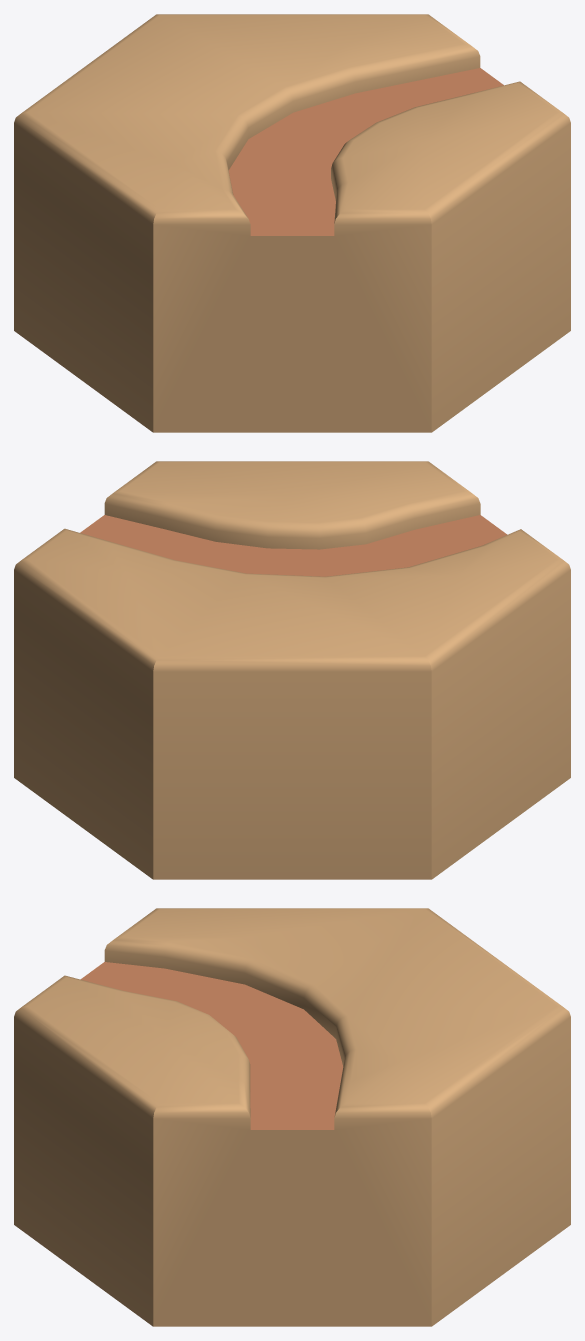
File: kaykit-hex-sand-roadd.glb
3 renders of one model, top to bottom at view 1: azimuth 30°, elevation 25°; view 2: azimuth 150°, elevation 25°; view 3: azimuth 270°, elevation 25°, orthographic.
Parts seen in each view (by area): view 1: hex_sand_roadD; view 2: hex_sand_roadD; view 3: hex_sand_roadD.
Boxes of the visible parts, <box> form: hex_sand_roadD: <box>14,14,570,432</box>; hex_sand_roadD: <box>14,461,570,879</box>; hex_sand_roadD: <box>14,908,570,1326</box>.
Size of the model in its own units: 2 by 1 by 2.31.
